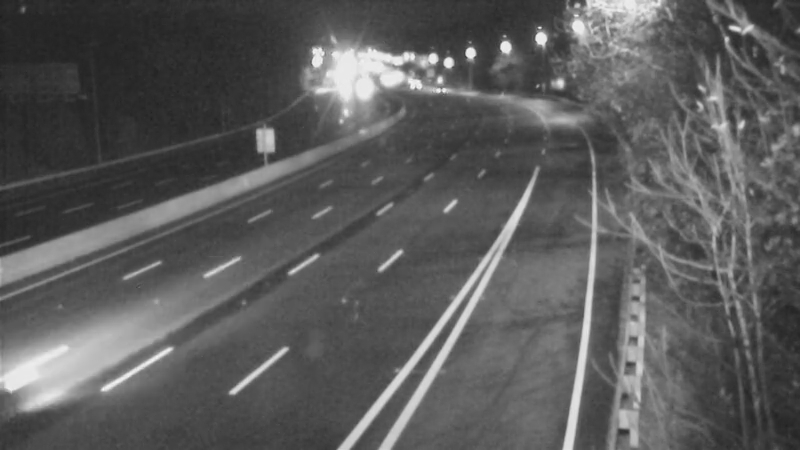vehicle: (386, 58, 436, 108), (416, 63, 466, 113)
